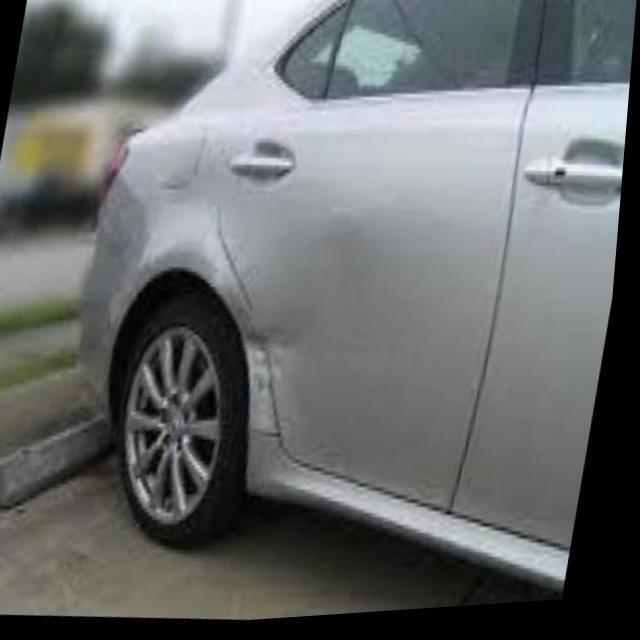dent: (243, 185, 357, 469)
